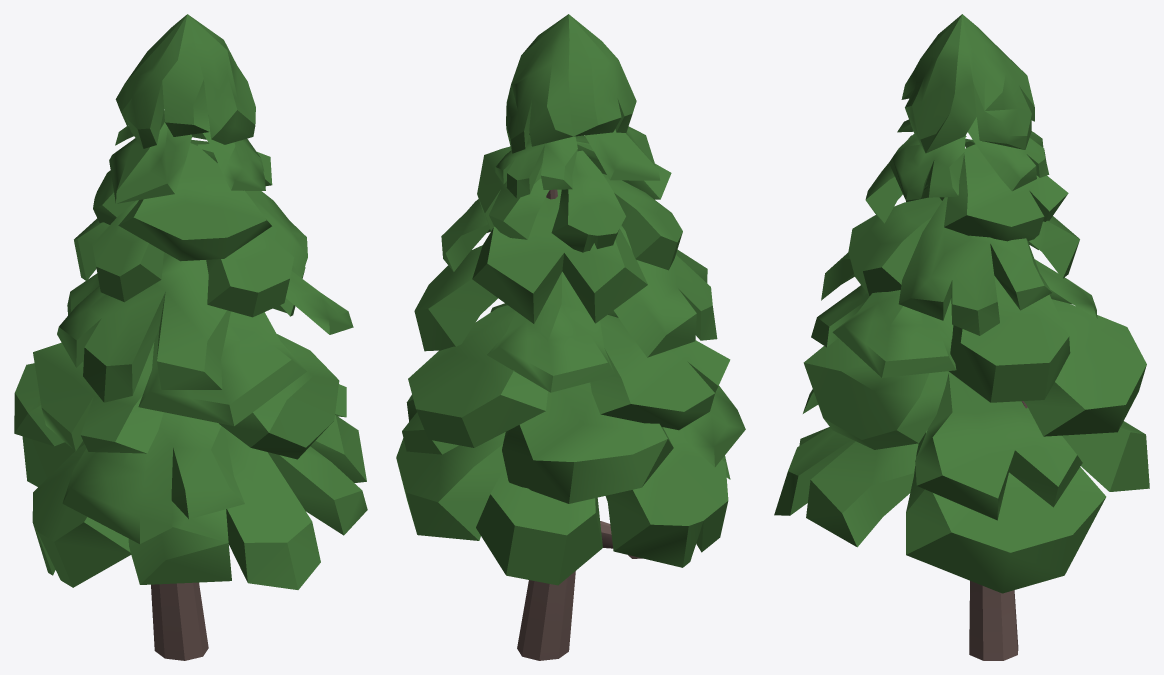
File: ever2.fbx
The picture shows the model from 3 angles, left to right: view 1: azimuth 30°, elevation 25°; view 2: azimuth 150°, elevation 25°; view 3: azimuth 270°, elevation 25°; orthographic projection. The views are drawn at different scales.
Parts seen in each view (by area): view 1: Canopy.001, Trunk.002; view 2: Canopy.001, Trunk.002; view 3: Canopy.001, Trunk.002.
Part boxes in pixels (bbox=[...]): Canopy.001: bbox=[14, 14, 367, 589]; Trunk.002: bbox=[151, 582, 208, 660]; Canopy.001: bbox=[396, 14, 745, 585]; Trunk.002: bbox=[517, 189, 642, 660]; Canopy.001: bbox=[774, 14, 1149, 593]; Trunk.002: bbox=[969, 401, 1027, 660].
Bounding box in the file's own units: 2.11 × 4.16 × 2.24.
